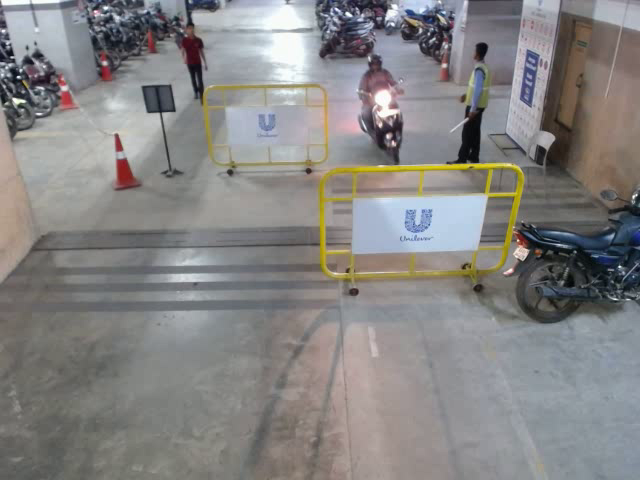with_helmet: (367, 52, 384, 67)
